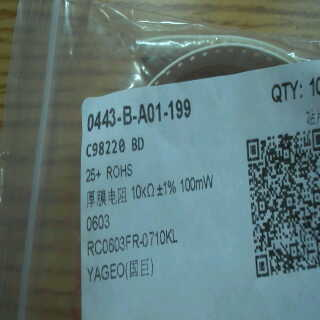10kR: (130, 180, 157, 203)
